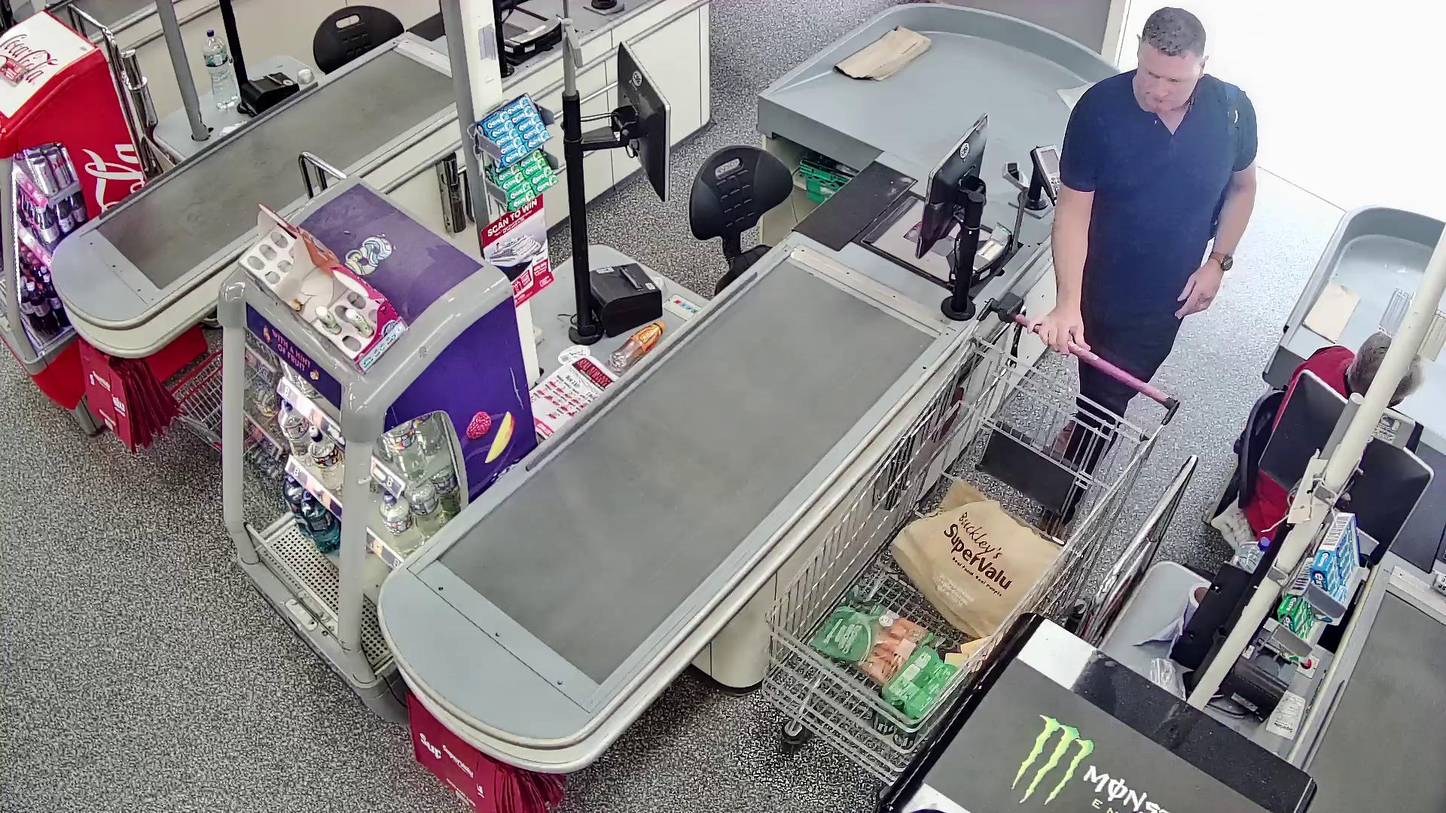filled-shopping-bags: (889, 483, 1068, 640)
filled-trolly: (765, 307, 1182, 792)
occupied-checkout-counter: (1219, 325, 1446, 723)
person: (1044, 8, 1258, 435)
person-with-basket-trolly-and-shopping-bag: (764, 6, 1258, 792)
vacant-checkout-counter: (538, 15, 1064, 392), (213, 0, 580, 139)
